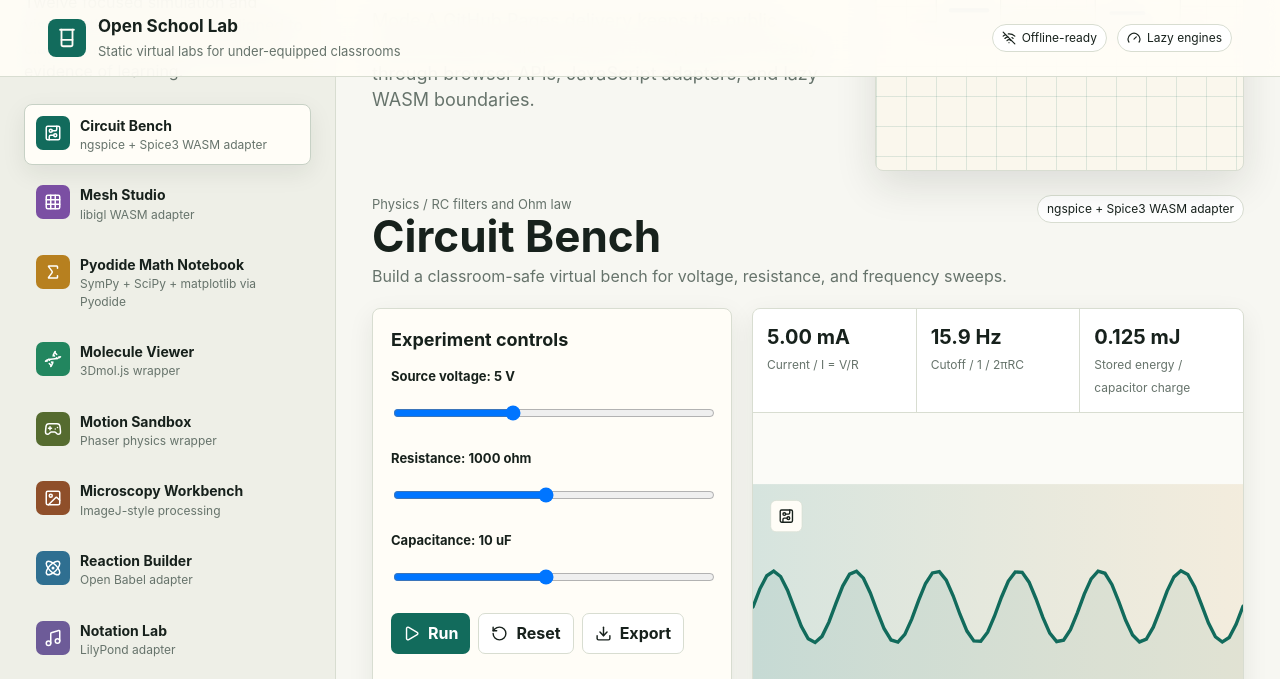
Test case: Open School Lab app › renders and switches labs
(page scrolled)
Click the button "Molecule Viewer 3Dmol.js wrapper" at point(168, 361), box [24,330,311,392]
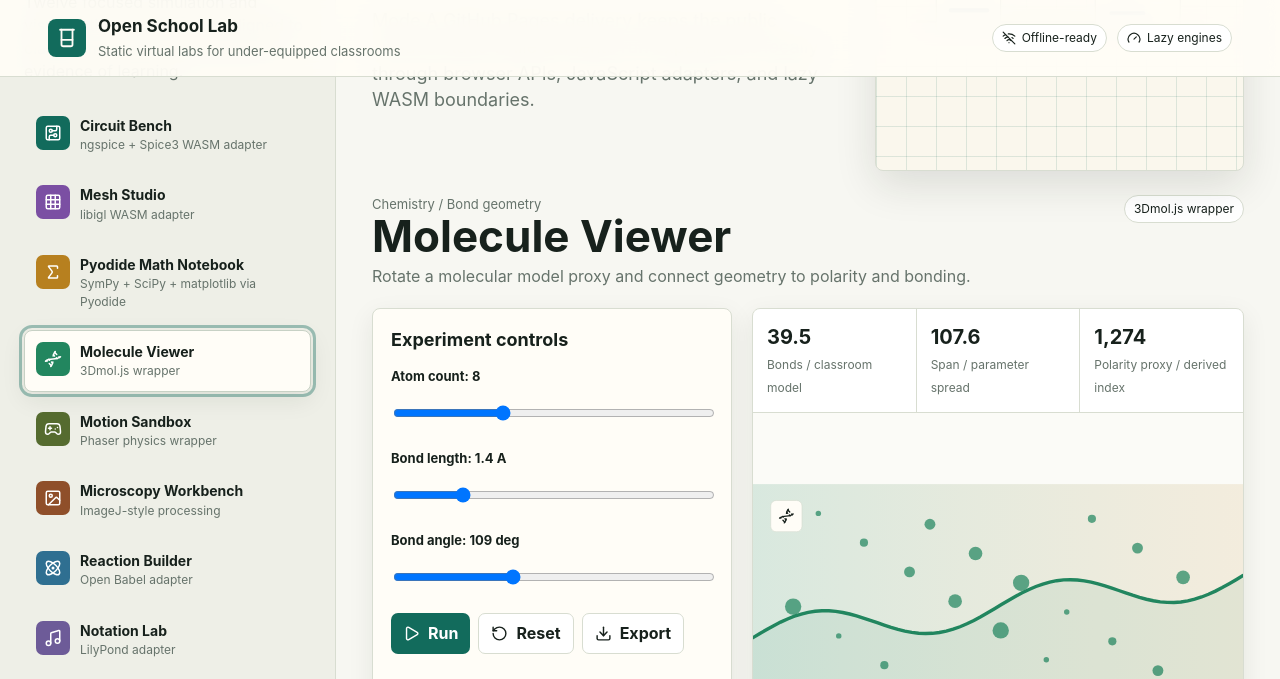
Check: the heading "Molecule Viewer" is shown, box [372,209,731,263]
